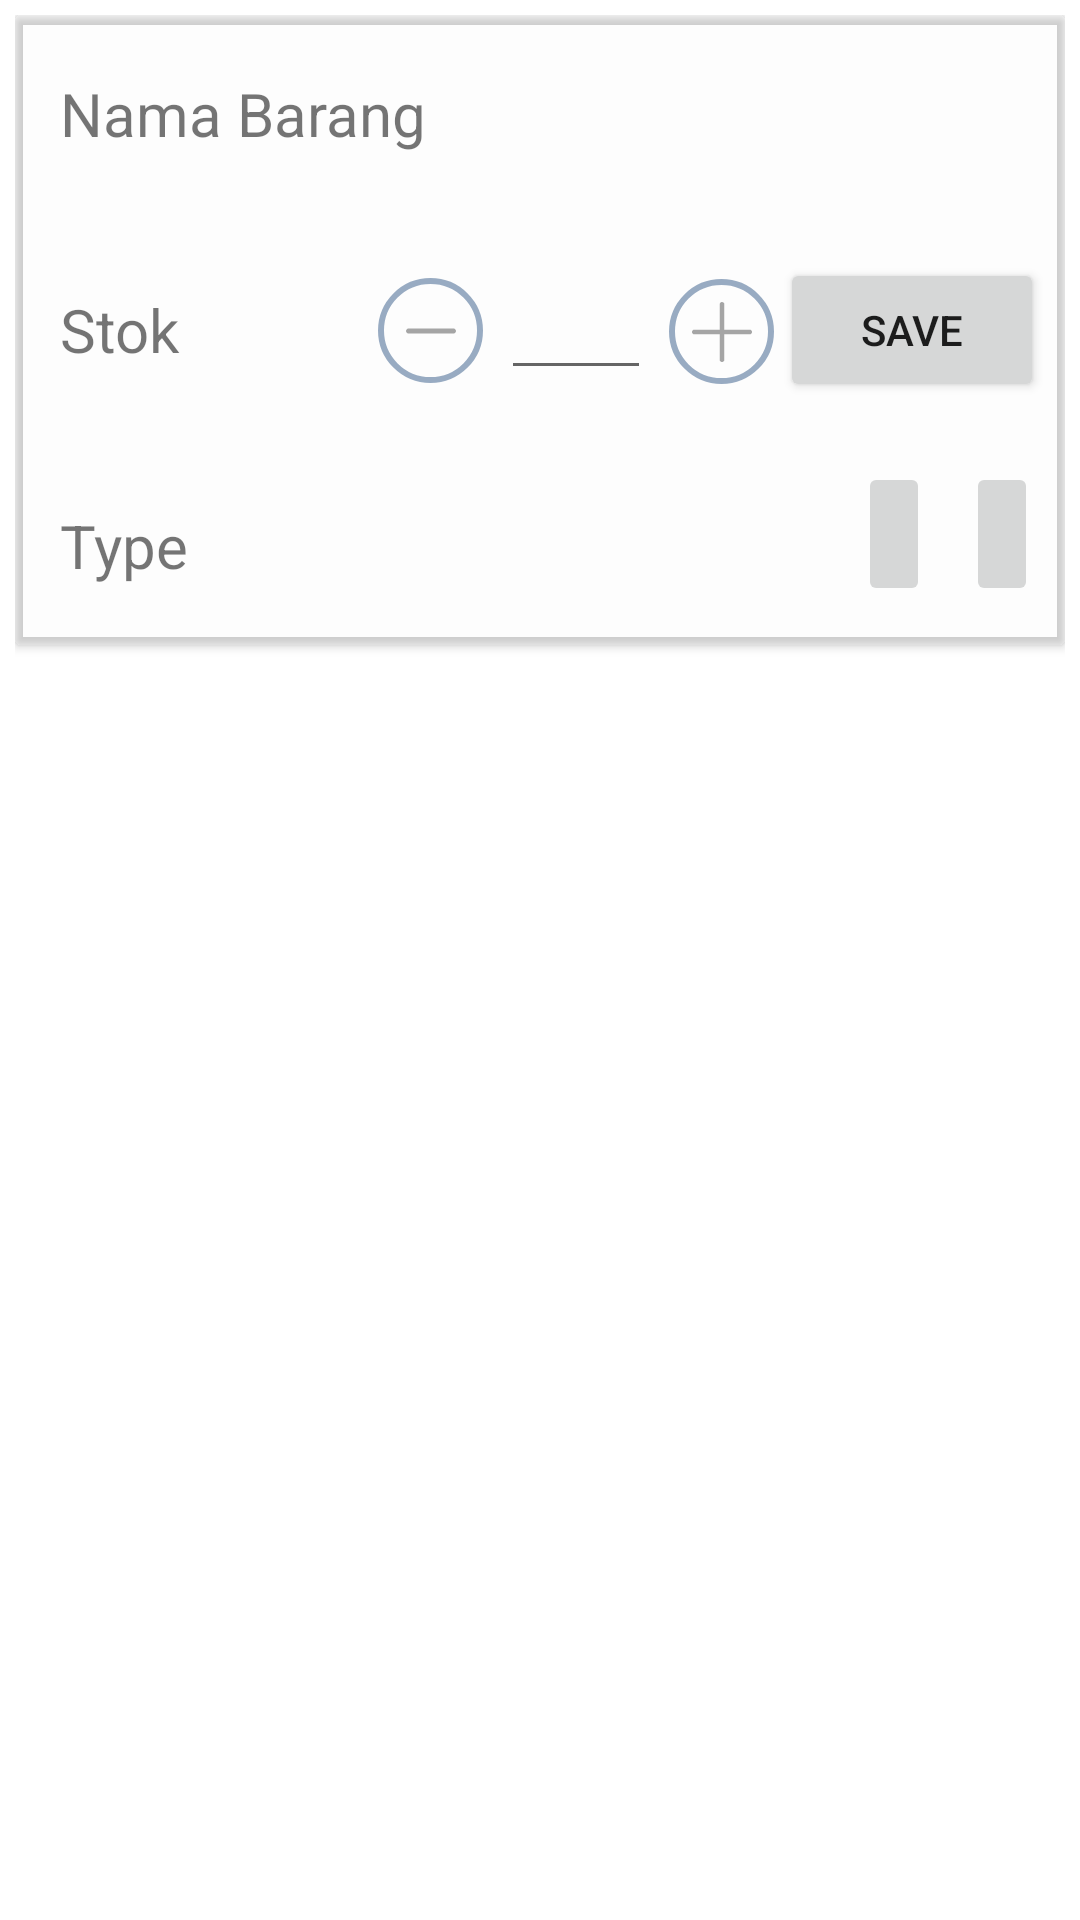

Icon click points for this 1080*1920 phone screenshot, format (x=x, y=y):
minus: (x=430, y=330)
plus: (x=721, y=331)
